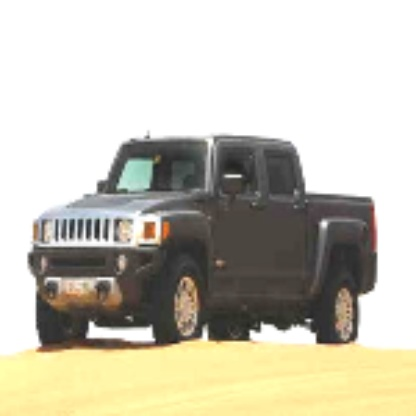Vehicle: (10, 107, 398, 381)
